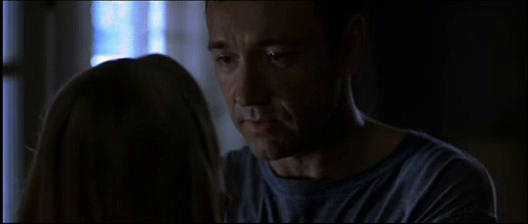cu: (1, 1, 528, 224)
face: (209, 17, 312, 160)
ots: (9, 53, 238, 224)
person: (204, 1, 498, 224)
